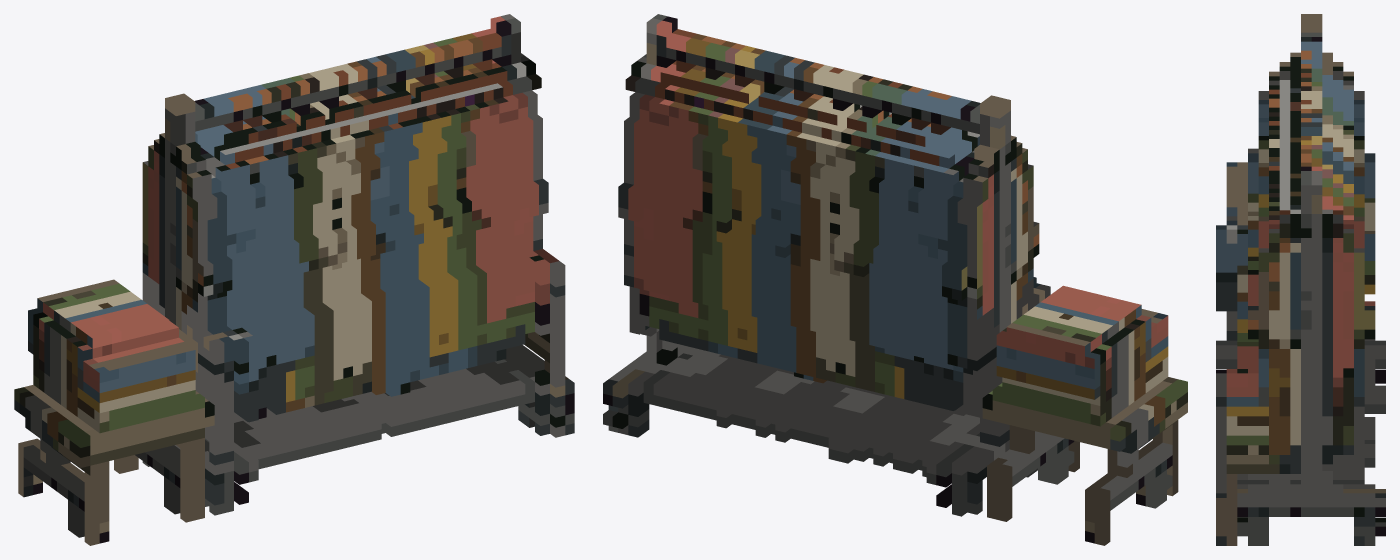
The model's file is city_clothes_rack.glb.
The picture shows the model from 3 angles, left to right: view 1: azimuth 30°, elevation 25°; view 2: azimuth 150°, elevation 25°; view 3: azimuth 270°, elevation 25°; orthographic projection. The views are drawn at different scales.
Visible parts, largest first — view 1: city_clothes_rack; view 2: city_clothes_rack; view 3: city_clothes_rack.
Boxes of the visible parts, x1=… form: city_clothes_rack: x1=14, y1=14, x2=574, y2=545; city_clothes_rack: x1=603, y1=14, x2=1187, y2=545; city_clothes_rack: x1=1216, y1=14, x2=1385, y2=545.
Bounding box in the file's own units: 1.59 × 1.19 × 0.5.
